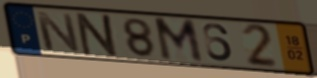2: (239, 22, 280, 69)
6: (201, 22, 235, 64)
8: (119, 17, 157, 58)
M: (151, 17, 207, 66)
N: (74, 11, 122, 59), (33, 10, 83, 54)
